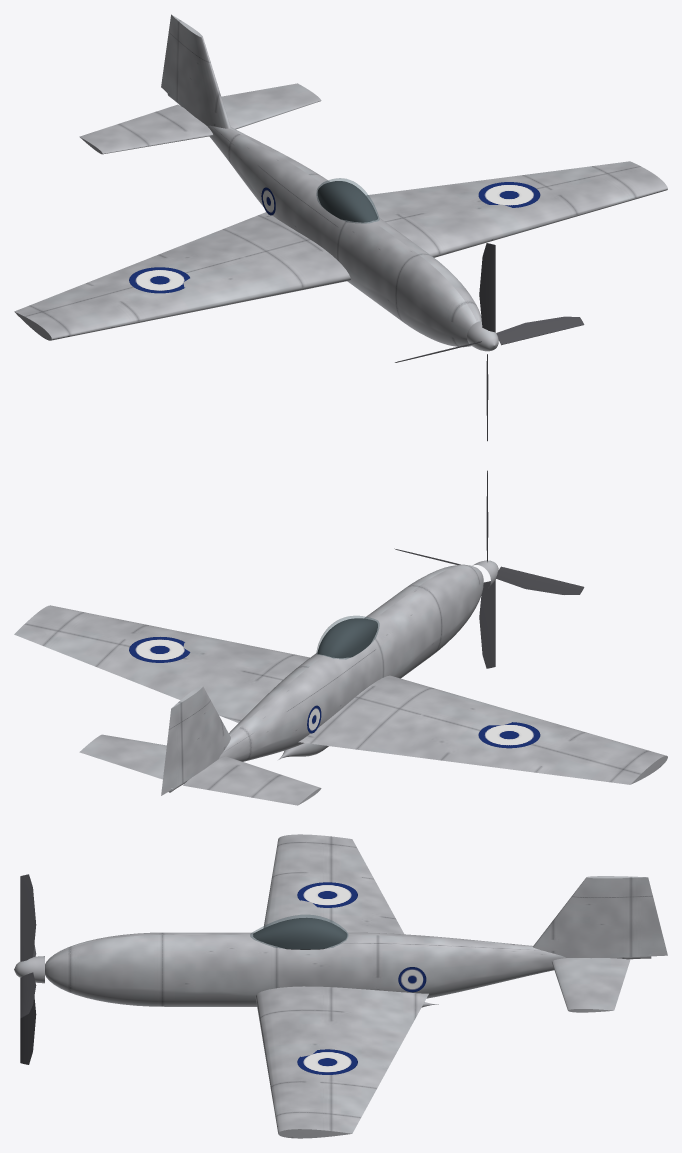
The model's file is 52_ROC_P-51.glb.
3 views of the same model, one above another, from view 1: azimuth 30°, elevation 25°; view 2: azimuth 150°, elevation 25°; view 3: azimuth 270°, elevation 25° (orthographic). The views are drawn at different scales.
Parts seen in each view (by area): view 1: Wing0_R, Fuselage, Wing0_L, Fin2, Htail1_R, Propeller, Htail1_L, Canopy, Cockpit, Decal_Wing_U_R, Decal_Wing_U_L; view 2: Wing0_R, Fuselage, Wing0_L, Fin2, Htail1_R, Propeller, Htail1_L, Canopy, Cockpit, Decal_Wing_U_R, Decal_Wing_U_L; view 3: Fuselage, Wing0_L, Wing0_R, Fin2, Htail1_L, Propeller, Canopy, Cockpit, Decal_Wing_U_L, Decal_Wing_U_R, Decal_Fus_L.
Part boxes in pixels (x1,y1,x2,y2): Wing0_R: (14, 212, 350, 340); Fuselage: (167, 92, 481, 347); Wing0_L: (366, 161, 667, 257); Fin2: (161, 14, 230, 128); Htail1_R: (79, 104, 212, 154); Propeller: (395, 243, 584, 441); Htail1_L: (221, 83, 321, 129); Canopy: (316, 178, 379, 223); Cockpit: (317, 181, 377, 222); Decal_Wing_U_R: (129, 267, 189, 293); Decal_Wing_U_L: (478, 182, 540, 207); Wing0_R: (298, 675, 667, 784); Fuselage: (169, 564, 483, 792); Wing0_L: (14, 605, 309, 722); Fin2: (161, 685, 230, 795); Htail1_R: (183, 756, 321, 805); Propeller: (394, 470, 584, 668); Htail1_L: (79, 734, 166, 779); Canopy: (316, 616, 379, 659); Cockpit: (317, 618, 377, 658); Decal_Wing_U_R: (478, 722, 540, 748); Decal_Wing_U_L: (129, 637, 190, 662); Fuselage: (45, 932, 651, 1006); Wing0_L: (255, 986, 428, 1138); Wing0_R: (263, 834, 403, 934); Fin2: (533, 876, 667, 958); Htail1_L: (552, 958, 630, 1012); Propeller: (14, 874, 44, 1064); Canopy: (250, 915, 348, 948); Cockpit: (253, 918, 347, 949); Decal_Wing_U_L: (297, 1049, 357, 1074); Decal_Wing_U_R: (297, 882, 357, 907); Decal_Fus_L: (398, 967, 426, 992).
Bounding box in the file's own units: 11.28 × 3.4 × 10.58.
6 materials, 2 textured.
